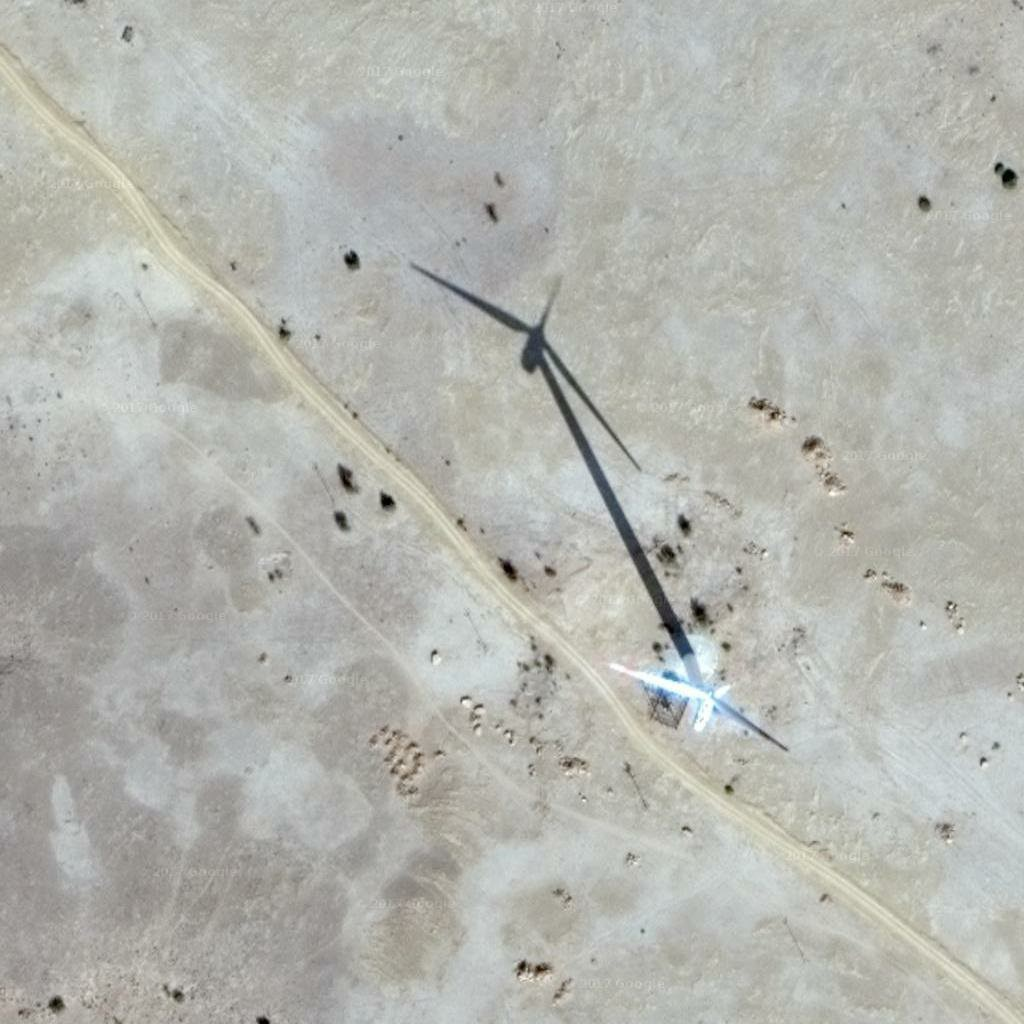Windmill: (405, 261, 698, 651)
